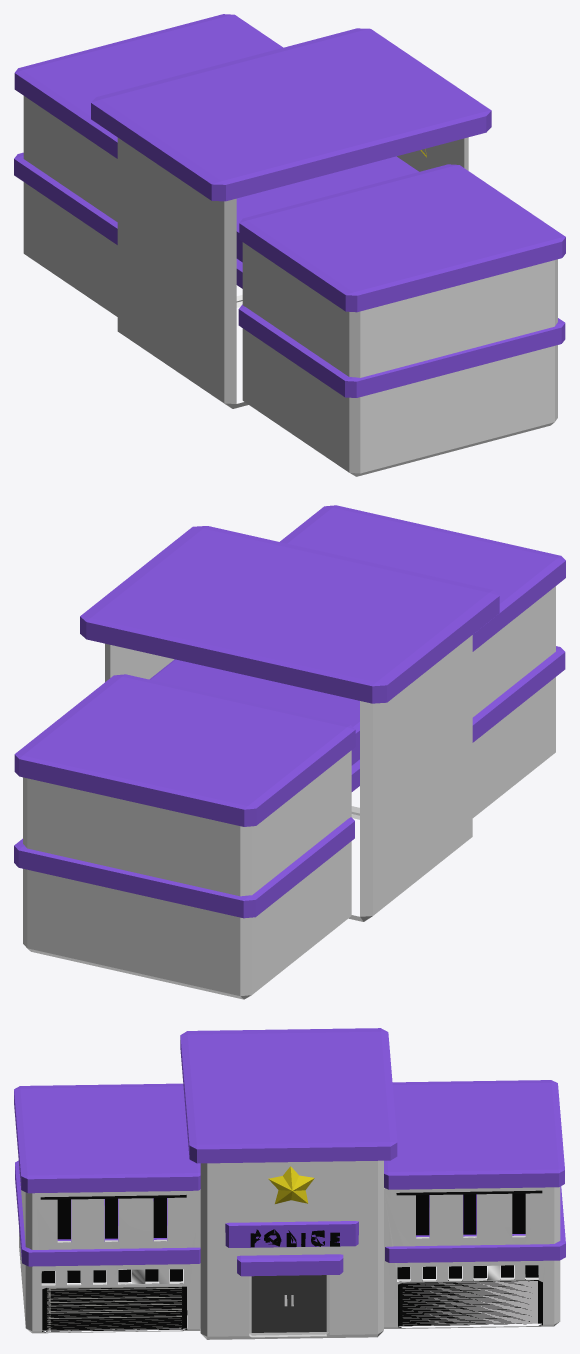
Rendered from police.glb.
3 views of the same model, one above another, from view 1: azimuth 30°, elevation 25°; view 2: azimuth 150°, elevation 25°; view 3: azimuth 270°, elevation 25° (orthographic). The views are drawn at different scales.
Visible parts, largest first — view 1: Police Muscle; view 2: Police Muscle; view 3: Police Muscle.
Boxes of the visible parts, left/top/right/bottom form: Police Muscle: left=14, top=14, right=565, bottom=476; Police Muscle: left=14, top=505, right=565, bottom=999; Police Muscle: left=14, top=1028, right=565, bottom=1339.
Size of the model in its own units: 138 by 106 by 264.
Materials: 1 (1 with a texture image).
